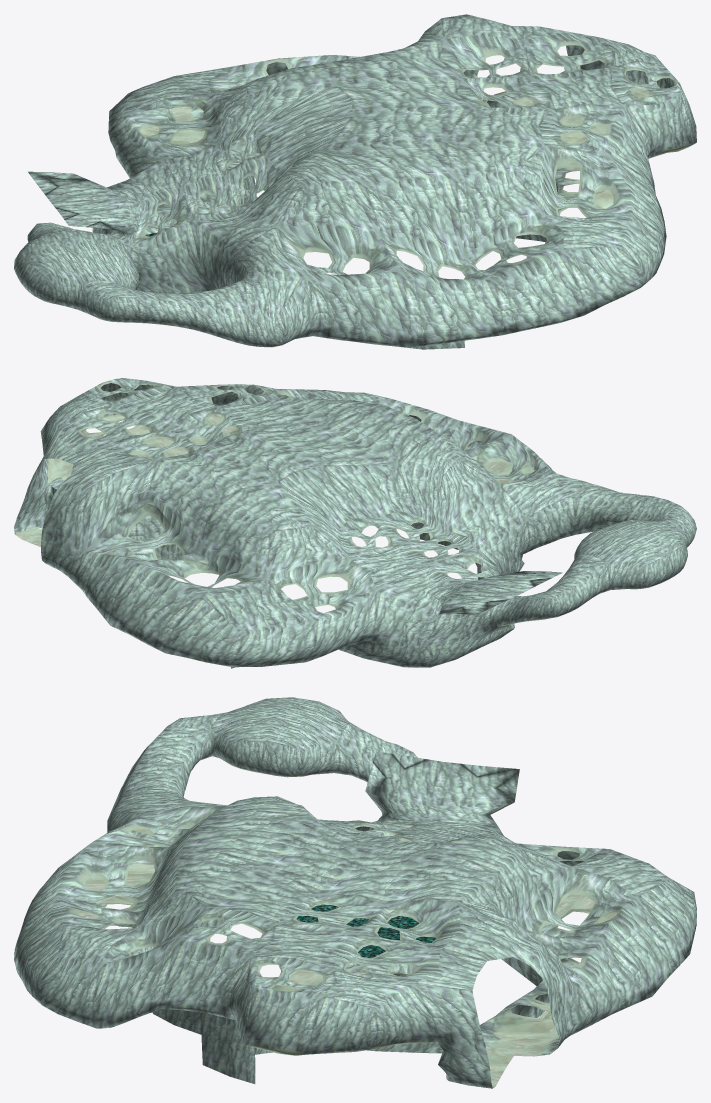
The model's file is TROLLHOLE02_PS-SECRETCAVE.fbx.
3 renders of one model, top to bottom at view 1: azimuth 30°, elevation 25°; view 2: azimuth 150°, elevation 25°; view 3: azimuth 270°, elevation 25°, orthographic. The views are drawn at different scales.
Parts seen in each view (by area): view 1: TROLLHOLE02_PS-SECRETCAVE; view 2: TROLLHOLE02_PS-SECRETCAVE; view 3: TROLLHOLE02_PS-SECRETCAVE.
Boxes of the visible parts, x1=… form: TROLLHOLE02_PS-SECRETCAVE: x1=14, y1=14, x2=696, y2=349; TROLLHOLE02_PS-SECRETCAVE: x1=14, y1=378, x2=696, y2=668; TROLLHOLE02_PS-SECRETCAVE: x1=14, y1=697, x2=696, y2=1088.
Bounding box in the file's own units: 848568 × 200575 × 718881.
Materials: 14 (14 with a texture image).
